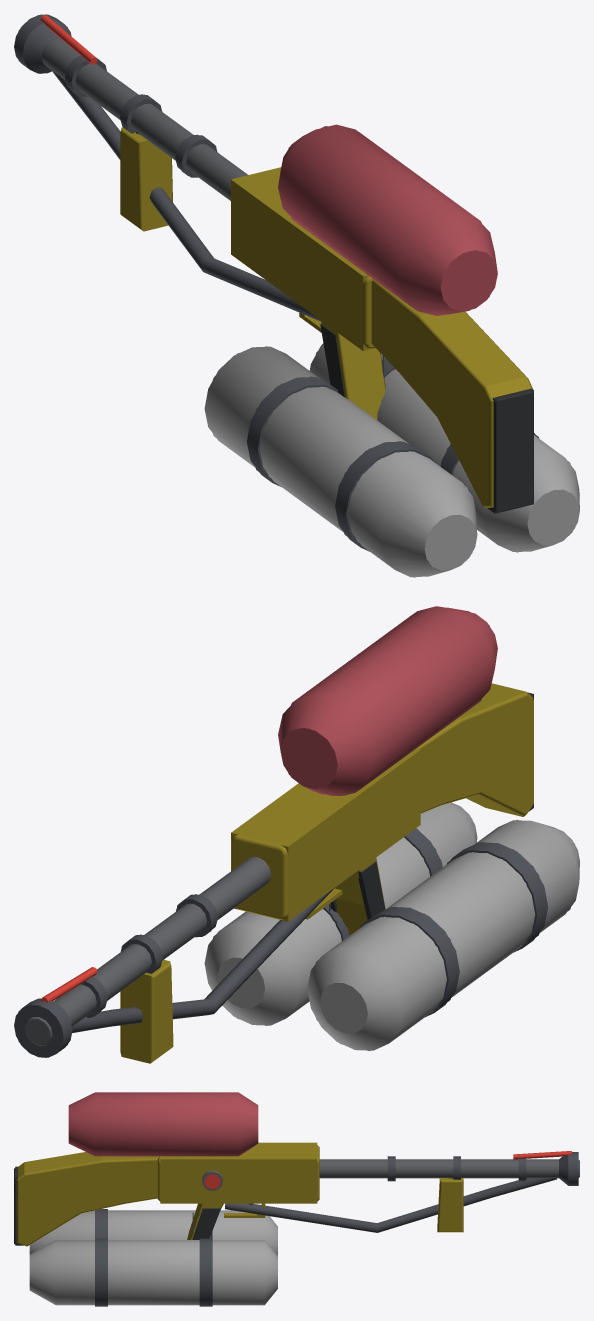
File: f_gel.glb
The picture shows the model from 3 angles, top to bottom: view 1: azimuth 30°, elevation 25°; view 2: azimuth 150°, elevation 25°; view 3: azimuth 270°, elevation 25°; orthographic projection. The views are drawn at different scales.
Visible parts, largest first — view 1: L0, L1; view 2: L0, L1; view 3: L0, L1.
Part boxes in pixels (x1,y1,x2,y2): L0: (14,14,579,577); L1: (18,14,579,577); L0: (14,606,579,1063); L1: (14,607,575,1057); L0: (14,1092,579,1306); L1: (15,1094,578,1302).
Size of the model in its own units: 0.2115 by 0.327 by 0.8658.
